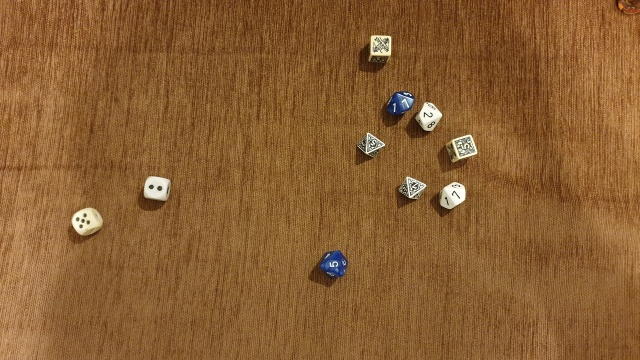d10-2: (413, 97, 444, 136)
d10-5: (316, 244, 350, 279)
d10-7: (432, 179, 470, 214), (380, 85, 415, 118)
d6-2: (140, 171, 173, 207)
d6-5: (69, 205, 106, 237)
d6p-1: (362, 33, 398, 63)
d6p-5: (442, 131, 481, 167)
d8p-5: (352, 128, 387, 161)
d8p-7: (395, 171, 426, 208)
